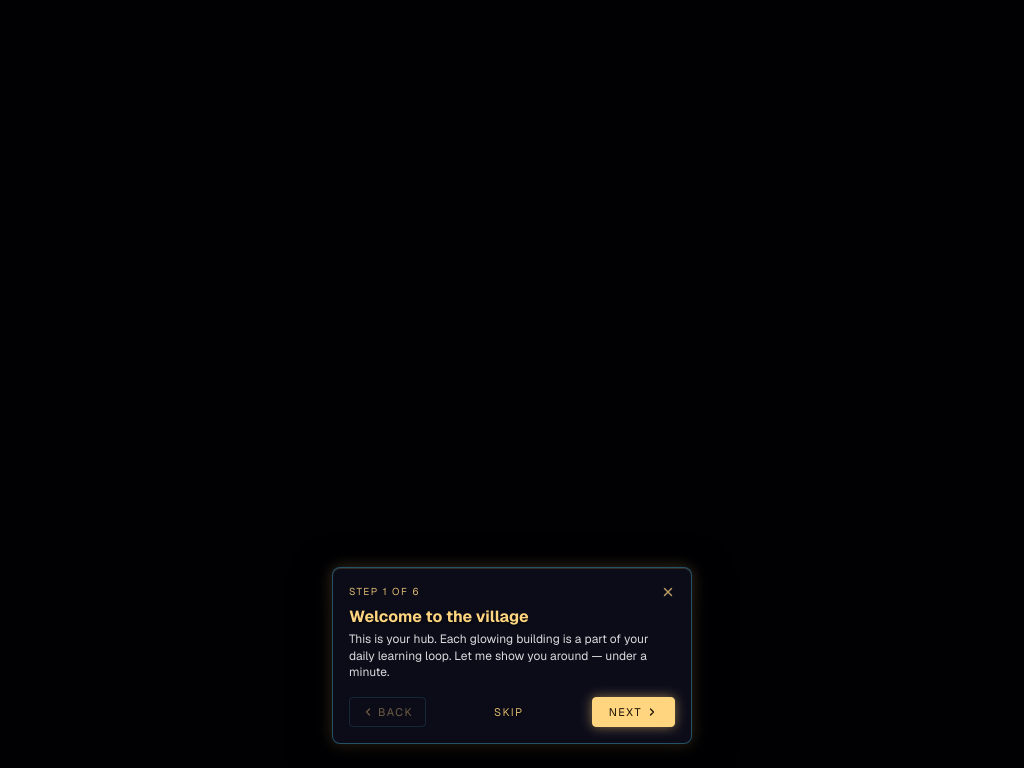
it: VillageTour › describes the mainnet position without promising principal or yield
Click the button "Next" at (633, 712), box x1=592 y1=696 x2=675 y2=727
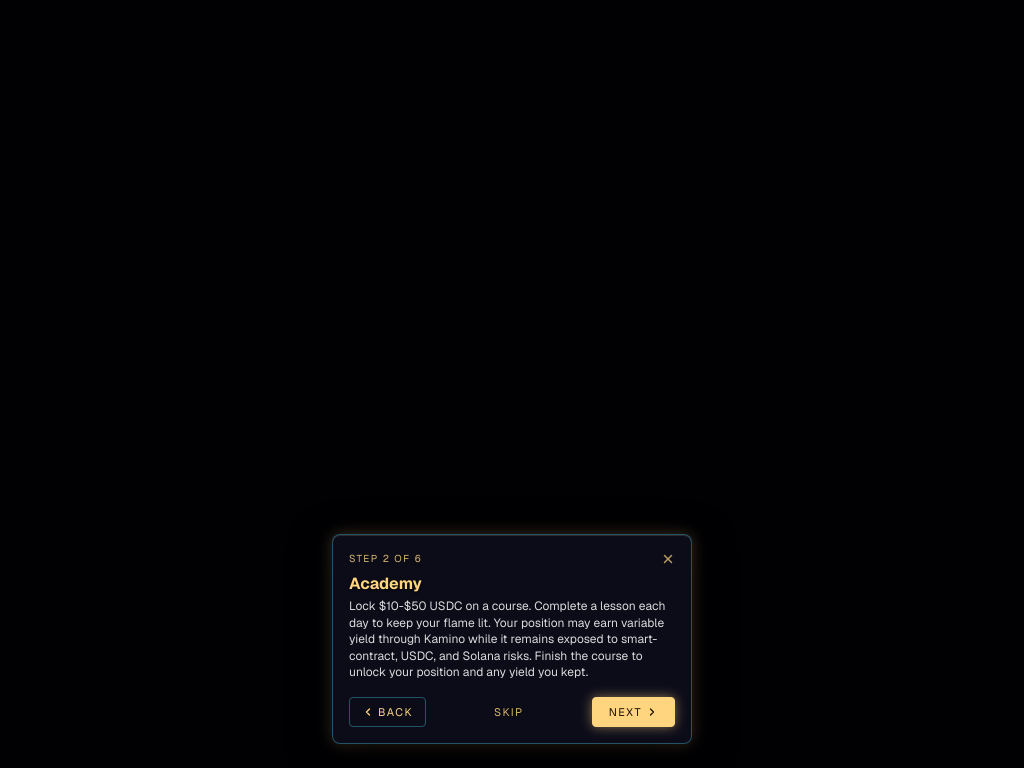
Now the text "remains exposed to smart-contract, USDC, and Solana risks" is shown, box x1=349 y1=598 x2=665 y2=680
